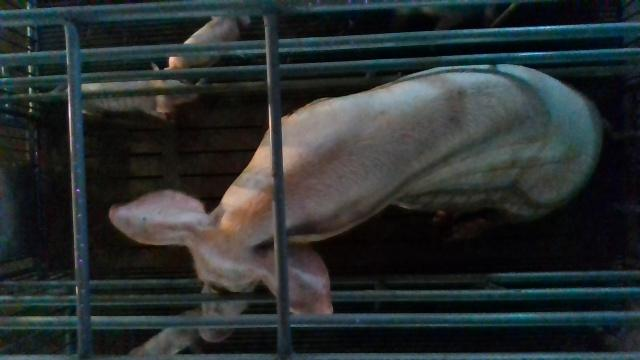piglet: (67, 60, 200, 121), (167, 15, 249, 67), (127, 308, 202, 354)
sow-sit: (110, 64, 612, 343)
